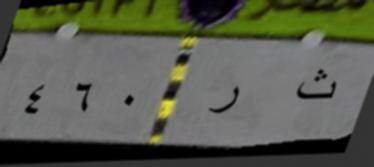0: (118, 90, 140, 114)
4: (20, 79, 48, 124)
6: (70, 76, 96, 115)
raa: (204, 80, 244, 122)
thaa: (288, 64, 339, 106)
